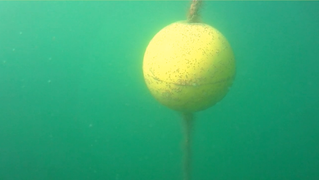buoy: (141, 19, 236, 112)
